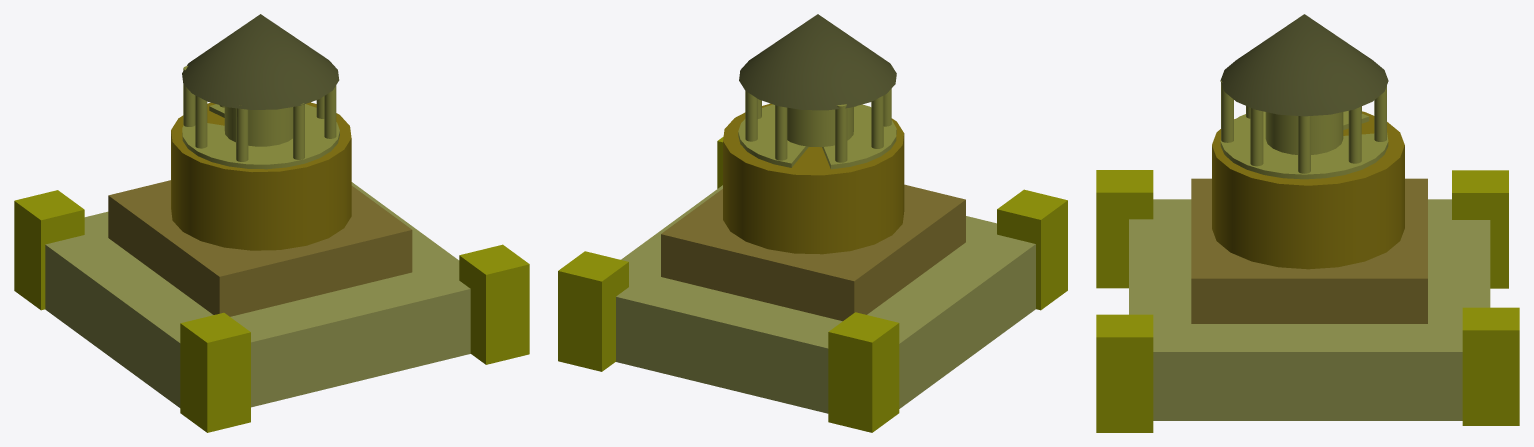
Rendered from Castl_Main.fbx.
3 views of the same model, side by side, from view 1: azimuth 30°, elevation 25°; view 2: azimuth 150°, elevation 25°; view 3: azimuth 270°, elevation 25° (orthographic). The views are drawn at different scales.
Visible parts, largest first — view 1: pCube10, Castle_head, pCylinder7; view 2: pCube10, Castle_head, pCylinder7; view 3: pCube10, Castle_head, pCylinder7.
Part boxes in pixels (x1=…): pCube10: x1=14, y1=180, x2=529, y2=432; Castle_head: x1=182, y1=14, x2=339, y2=169; pCylinder7: x1=171, y1=102, x2=351, y2=250; pCube10: x1=558, y1=136, x2=1067, y2=432; Castle_head: x1=738, y1=14, x2=896, y2=169; pCylinder7: x1=723, y1=103, x2=904, y2=254; pCube10: x1=1096, y1=170, x2=1519, y2=432; Castle_head: x1=1220, y1=14, x2=1388, y2=179; pCylinder7: x1=1212, y1=111, x2=1404, y2=269.
Size of the model in its own units: 243 by 224 by 260.
